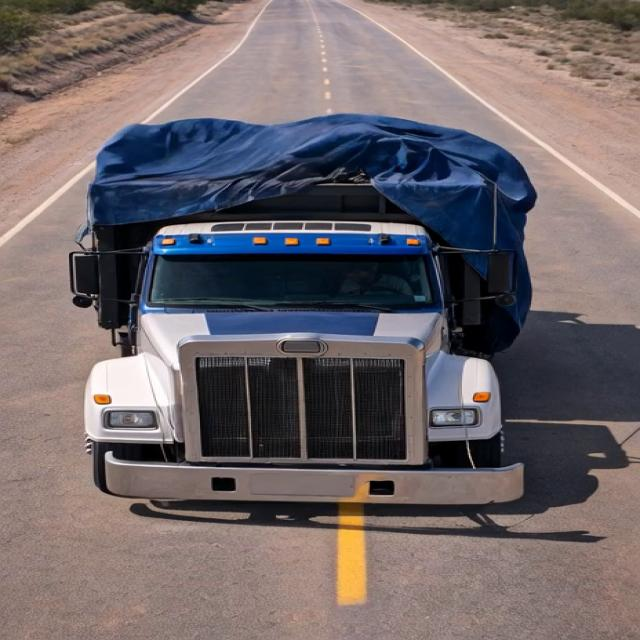trailer: (66, 110, 525, 226)
truck: (21, 90, 560, 532)
